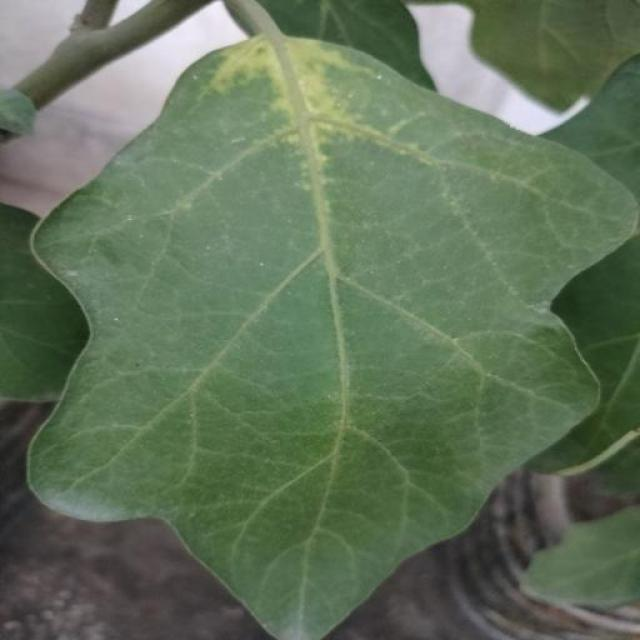leaf_spot: (263, 94, 364, 192), (292, 35, 350, 112), (216, 40, 280, 91)
